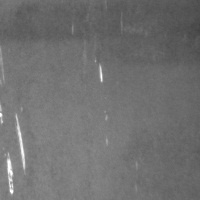scratches: (2, 110, 27, 198), (89, 57, 106, 87)
